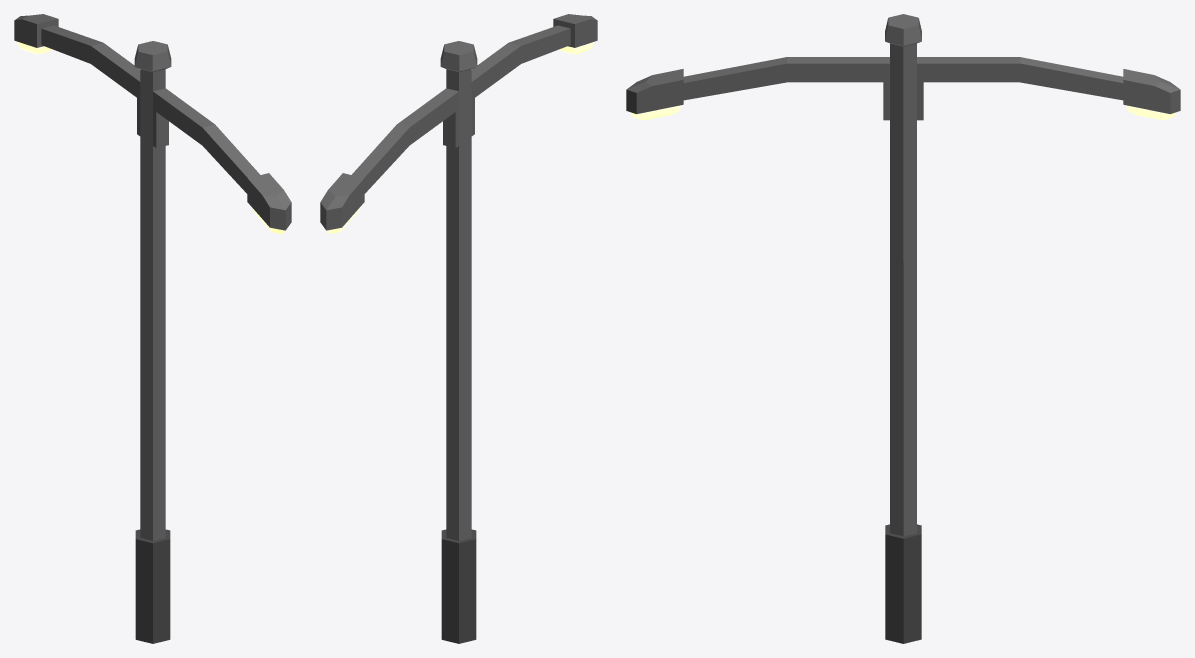
File: Street Lamp 3.fbx
3 renders of one model, left to right at view 1: azimuth 30°, elevation 25°; view 2: azimuth 150°, elevation 25°; view 3: azimuth 270°, elevation 25°, orthographic. The views are drawn at different scales.
Parts seen in each view (by area): view 1: Street Lamp 3; view 2: Street Lamp 3; view 3: Street Lamp 3.
Part boxes in pixels (left/top/right/bottom): Street Lamp 3: left=14, top=14, right=291, bottom=643; Street Lamp 3: left=320, top=14, right=597, bottom=643; Street Lamp 3: left=626, top=14, right=1180, bottom=643.
Bounding box in the file's own units: 0.2843 × 3.62 × 4.42.
